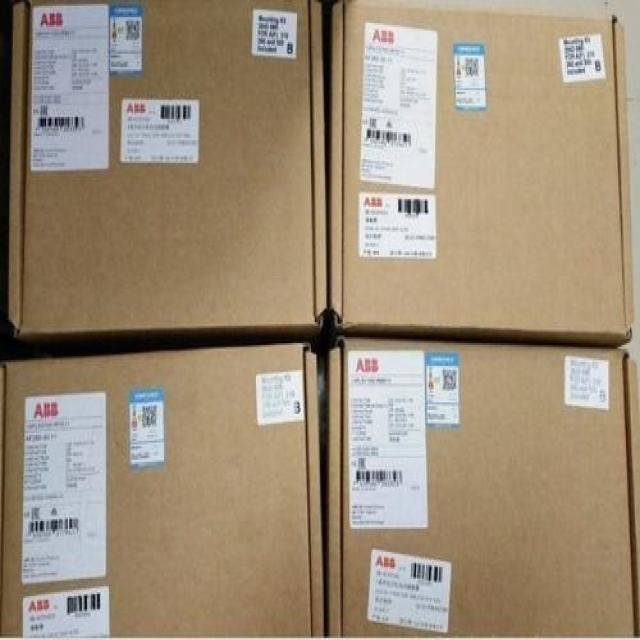box: (9, 0, 326, 337), (332, 0, 635, 347), (0, 343, 325, 640), (329, 335, 639, 640)
